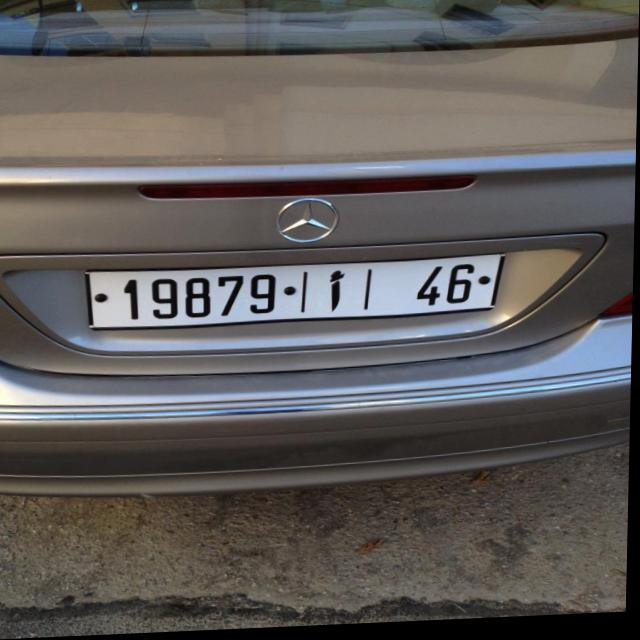License-Plate: (89, 259, 505, 330)
